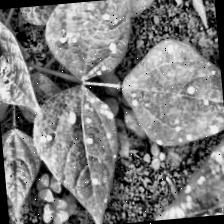Bean Rust: (31, 82, 122, 224), (126, 37, 224, 153), (150, 111, 224, 220), (48, 0, 141, 84), (0, 6, 46, 117)
